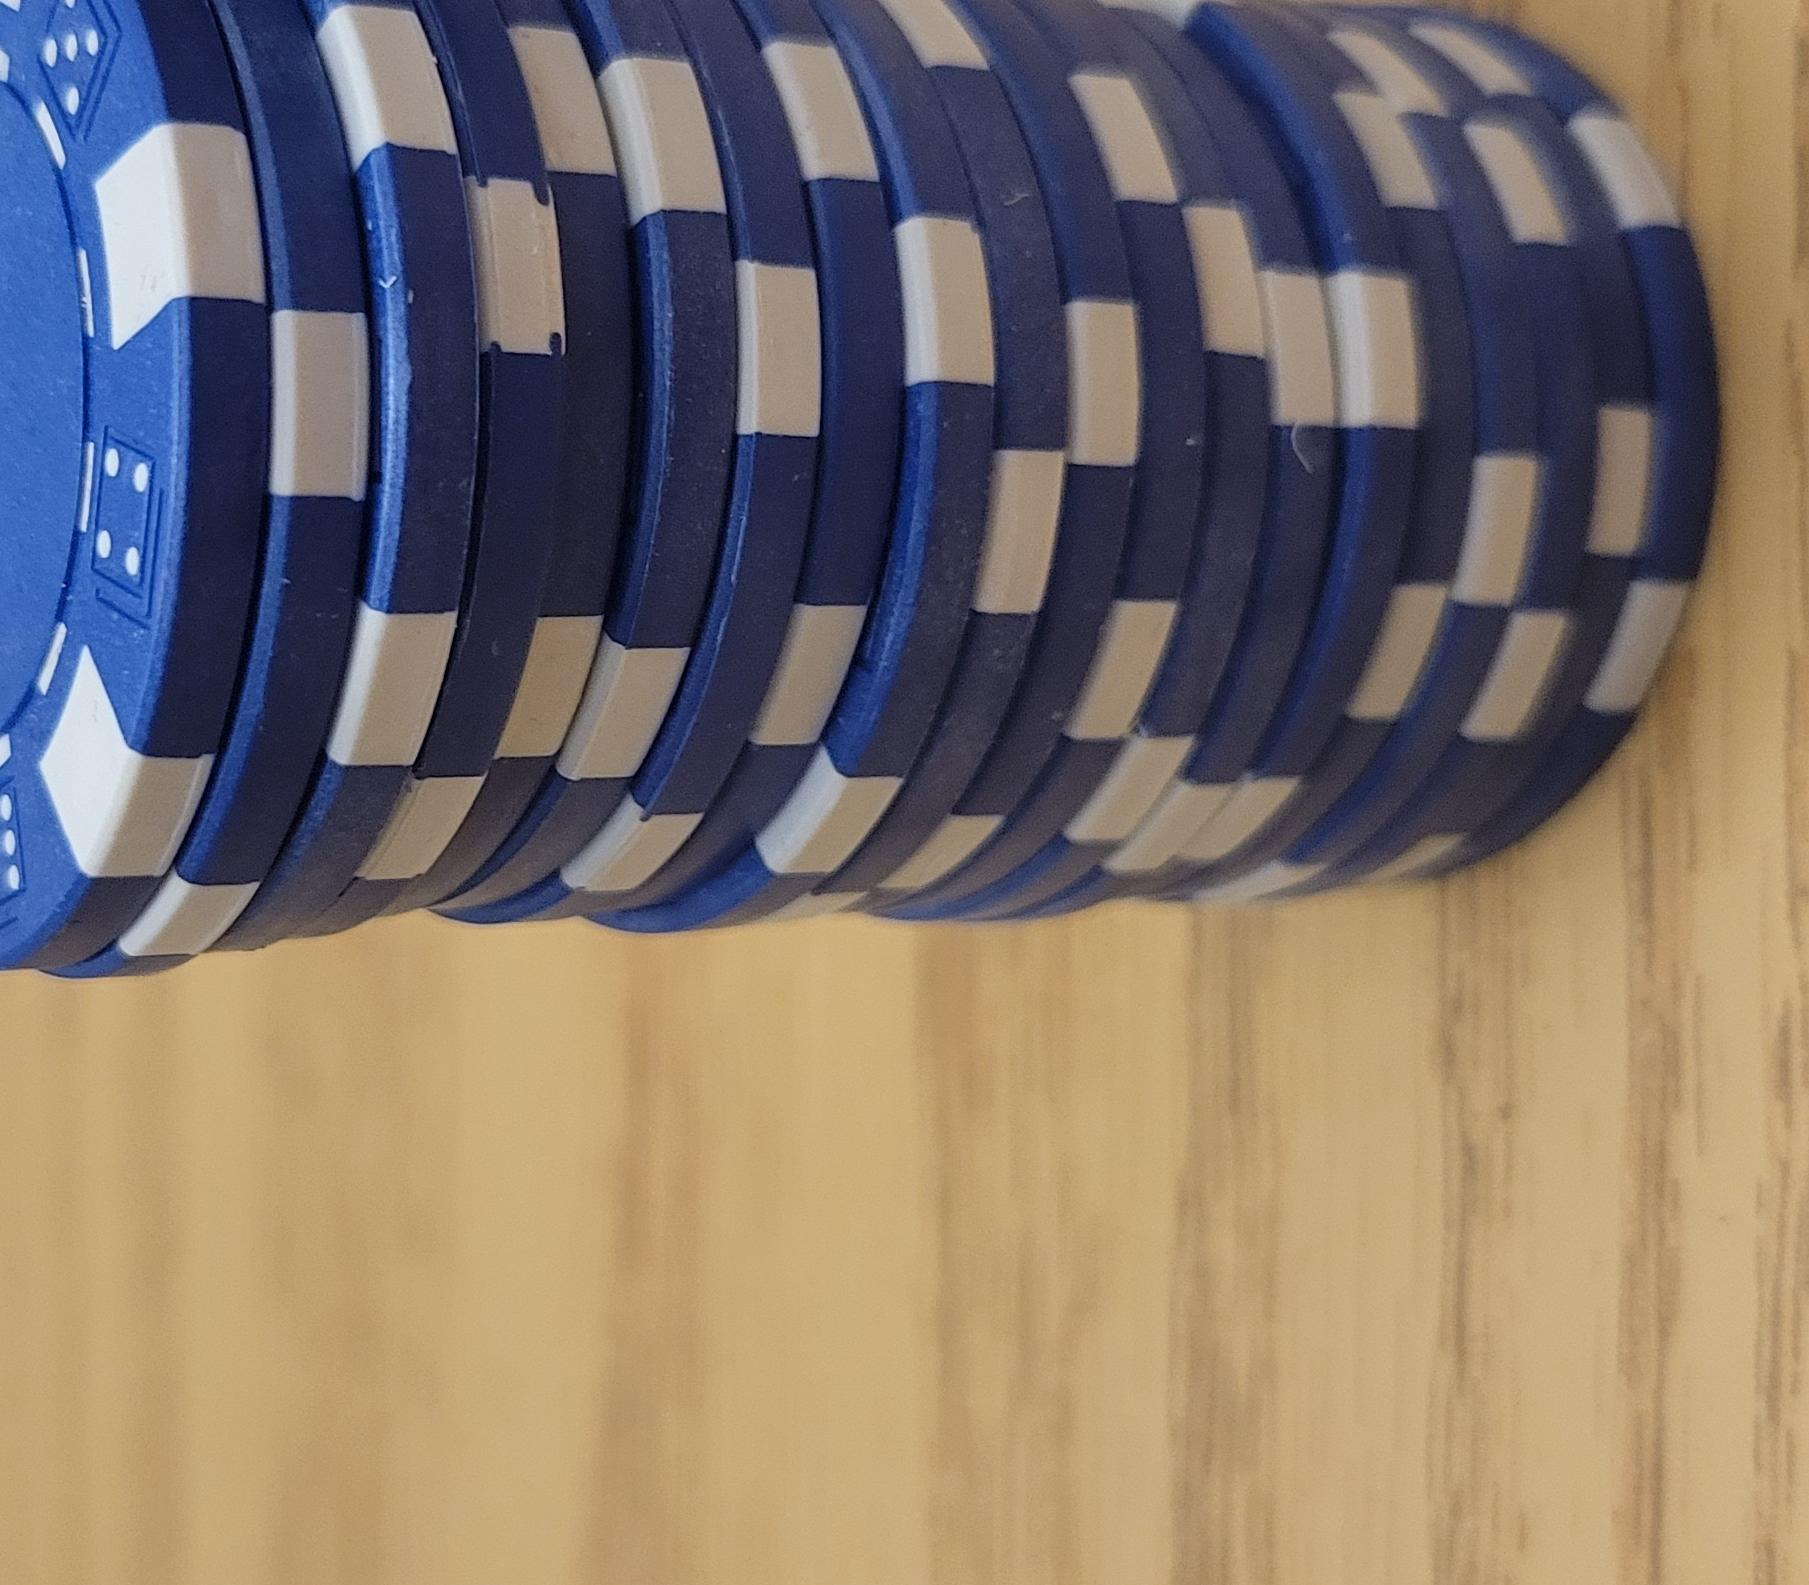Chip: (2, 272, 991, 1585)
